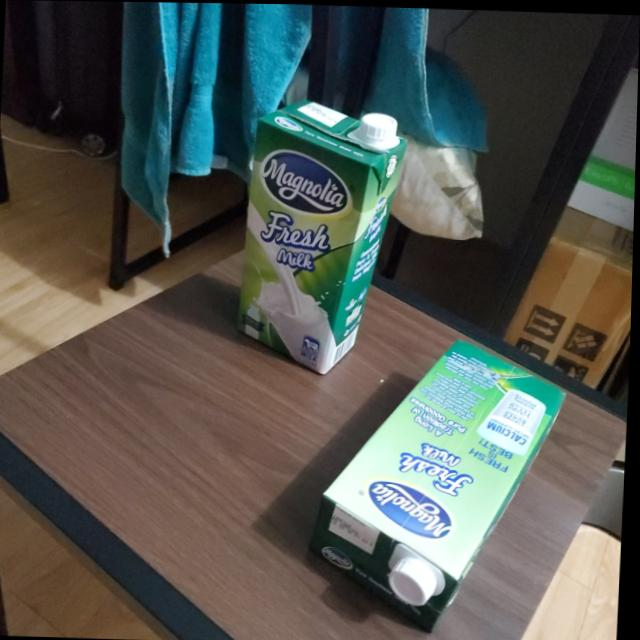milk: (316, 330, 569, 628), (235, 99, 407, 380)
